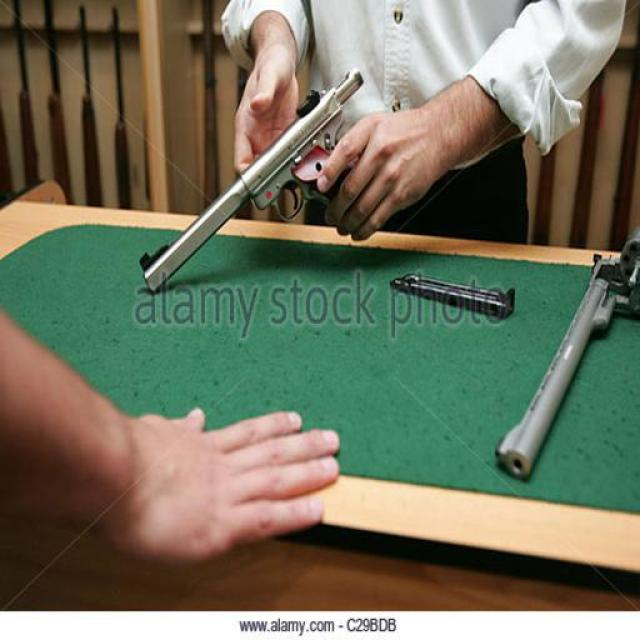pistol: (131, 54, 415, 306), (486, 174, 635, 480)
